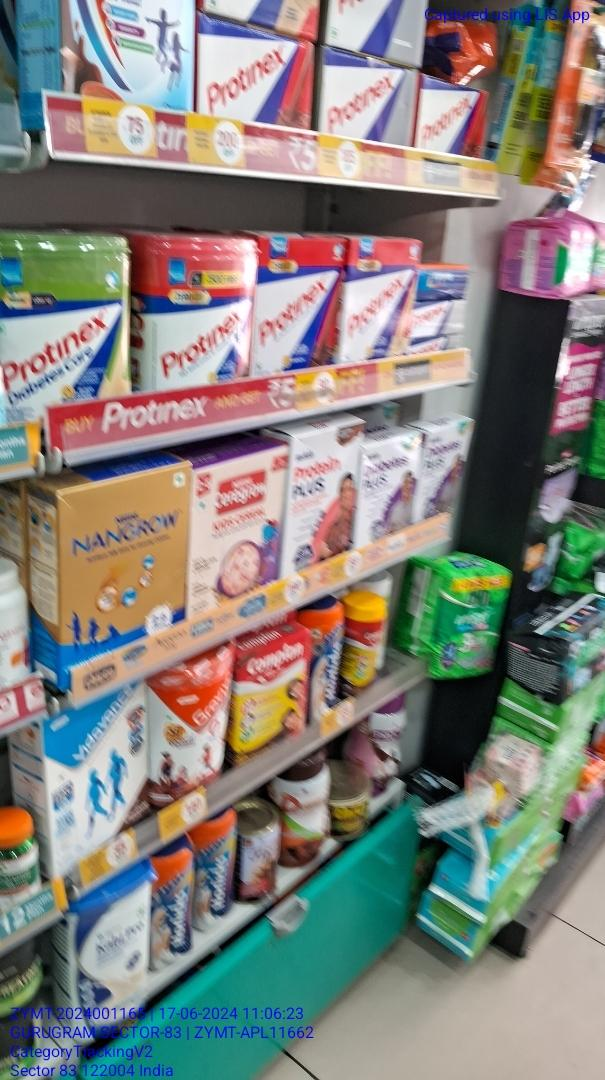COMPLAN_CHOCOLATE_500_GMS_JAR: (348, 603, 384, 694)
COMPLAN_CHOCOLATE_500_GMS_PACK: (241, 644, 311, 752)
HORLICK_CLASSIC_MALT_500_G_PACK: (150, 845, 192, 968), (197, 815, 239, 927), (313, 604, 344, 710)
